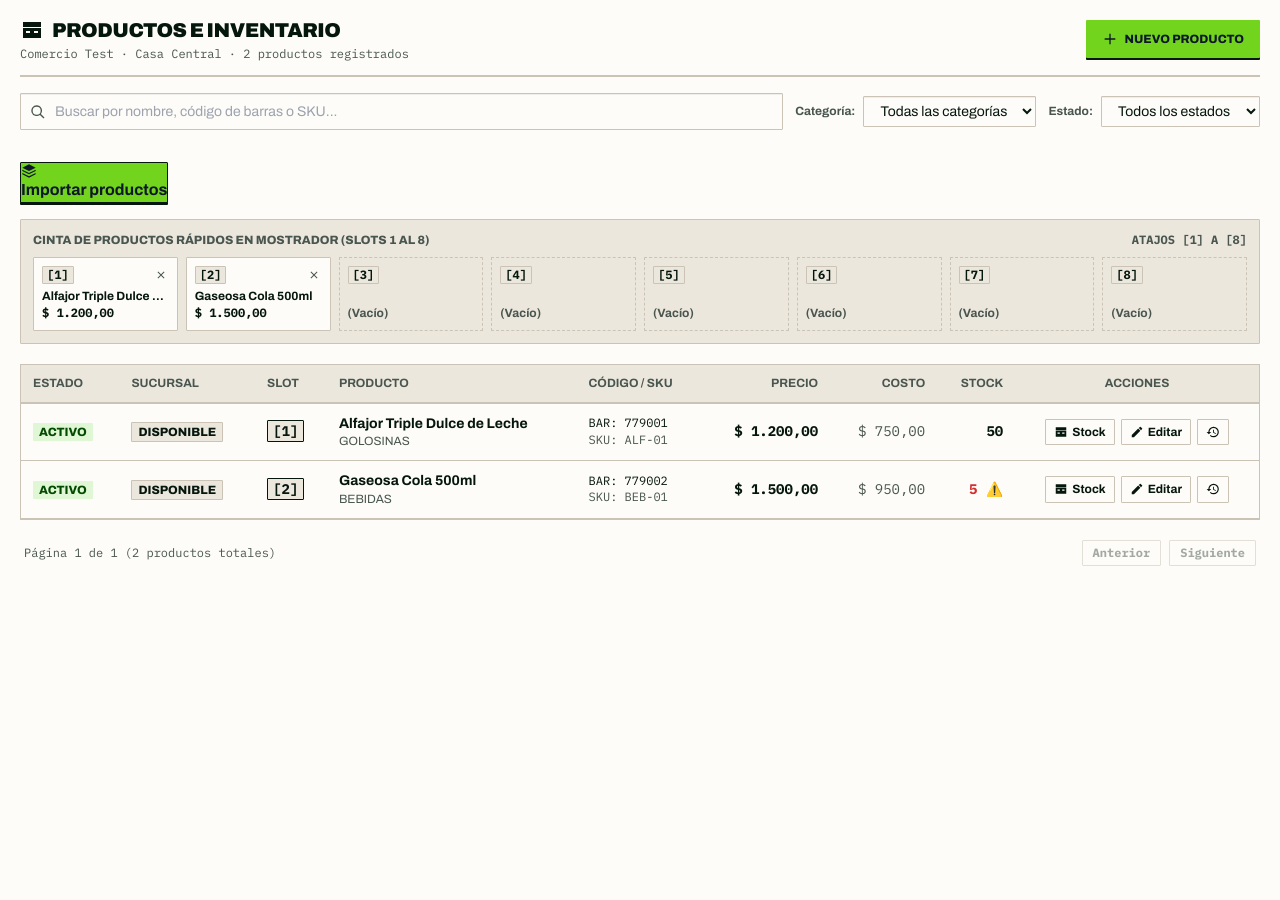
Test case: ProductsScreen ("Mostrador vivo" Visual Catalog) › opens stock adjustment dialog with current stock and projected calculation
Click the button titled "Ajustar stock" in the row of "GOLOSINAS": click(1080, 432) [1045,419,1115,445]
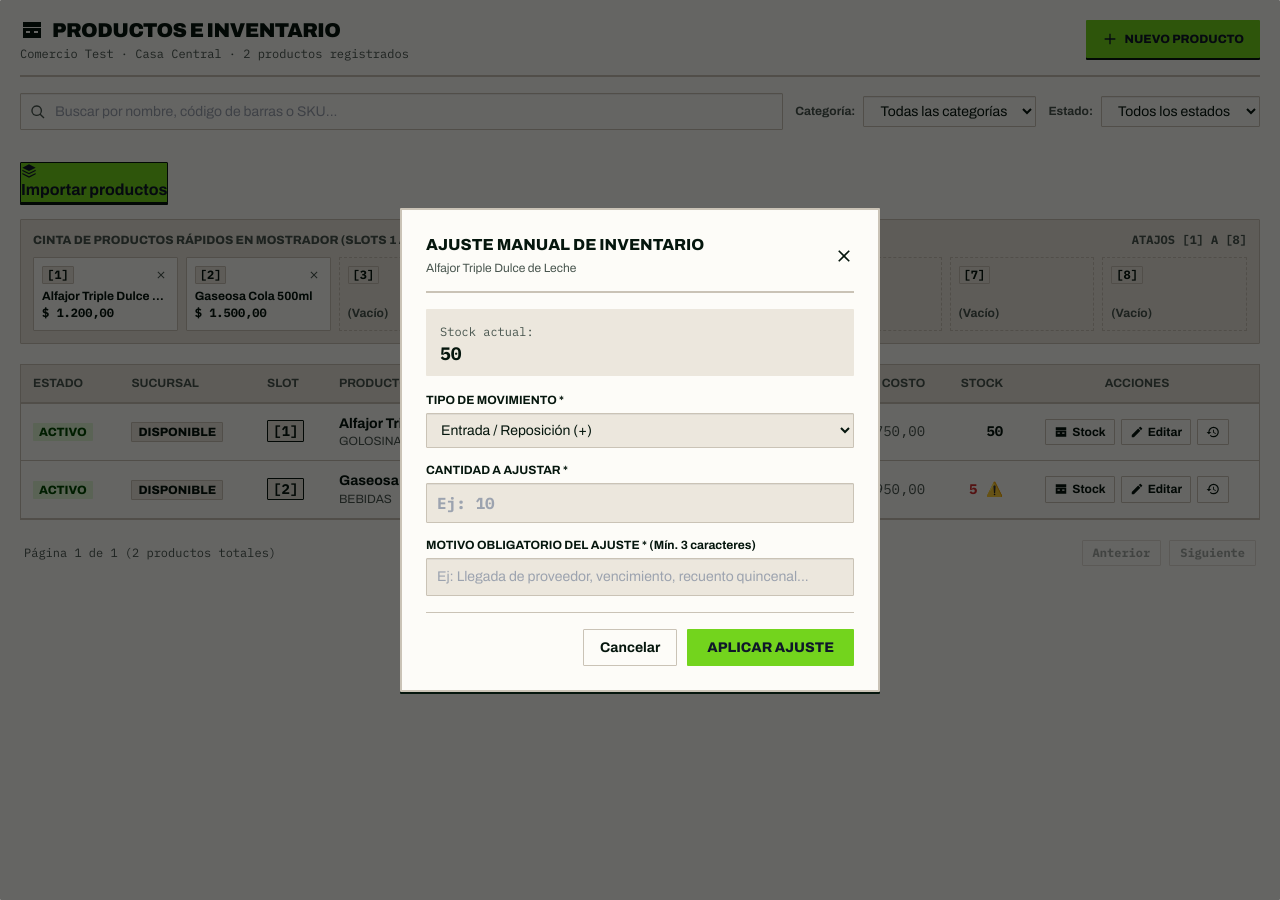
Check: the heading "AJUSTE MANUAL DE INVENTARIO" is shown, box [426,234,704,256]
Check: the text "Stock actual:" is shown, box [440,324,534,339]
Check: the text "50" is shown, box [440,342,462,365]
